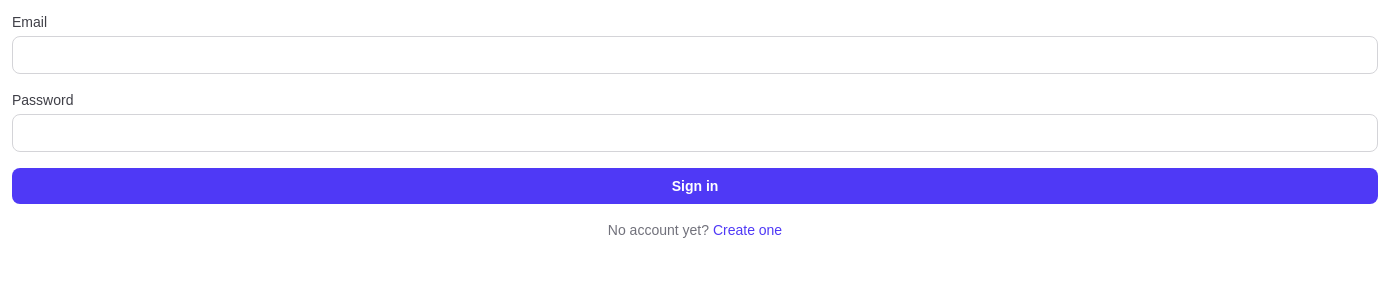
Test: AuthForm › shows a validation error instead of submitting an invalid email
Type "not-an-email" into the field labelled "Email" at [695, 55], box [12,36,1378,74]
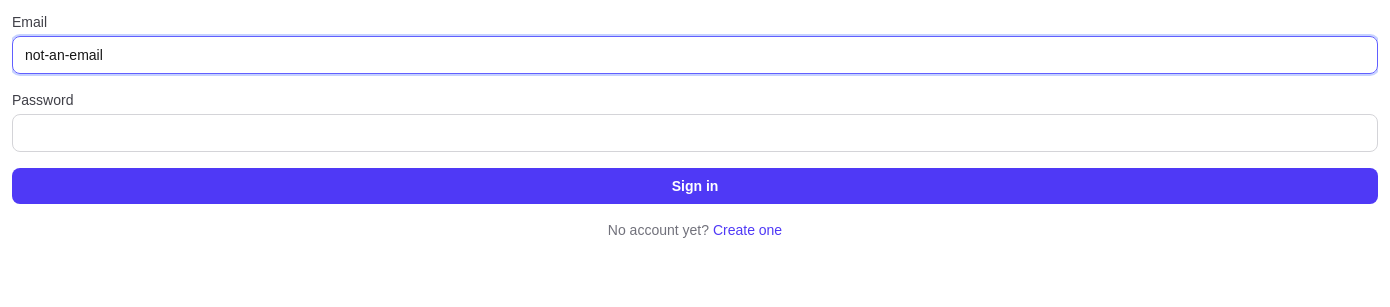
Type "secret" into the password field labelled "Password" at [695, 133], box [12,114,1378,152]
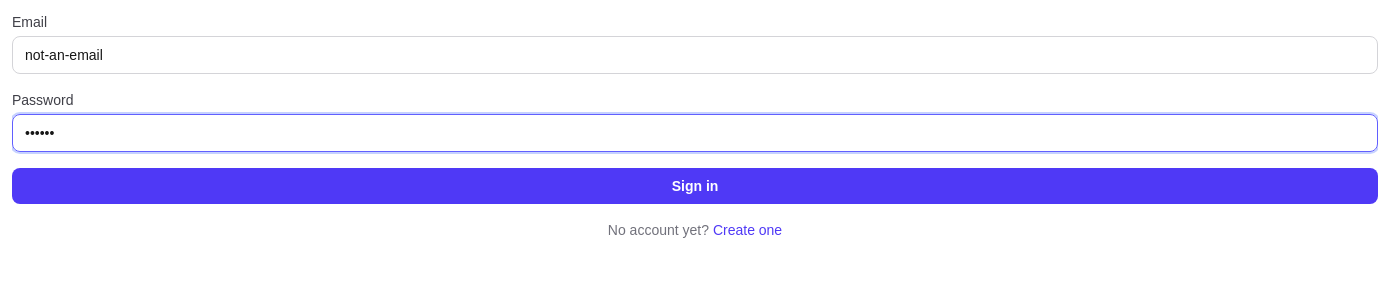
Click the button "Sign in" at [695, 186], box [12,168,1378,204]
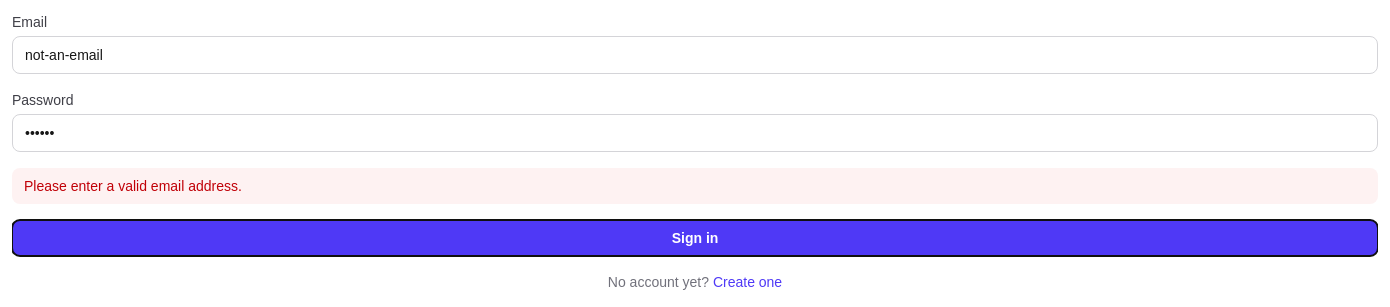
Result: the message shows "valid email" at [24,178,242,194]
